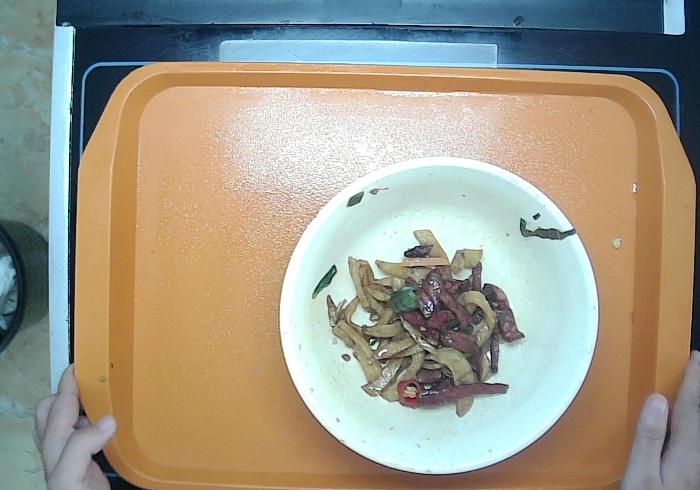ZNLD-Da_Tang_Wan: (276, 149, 603, 479)
